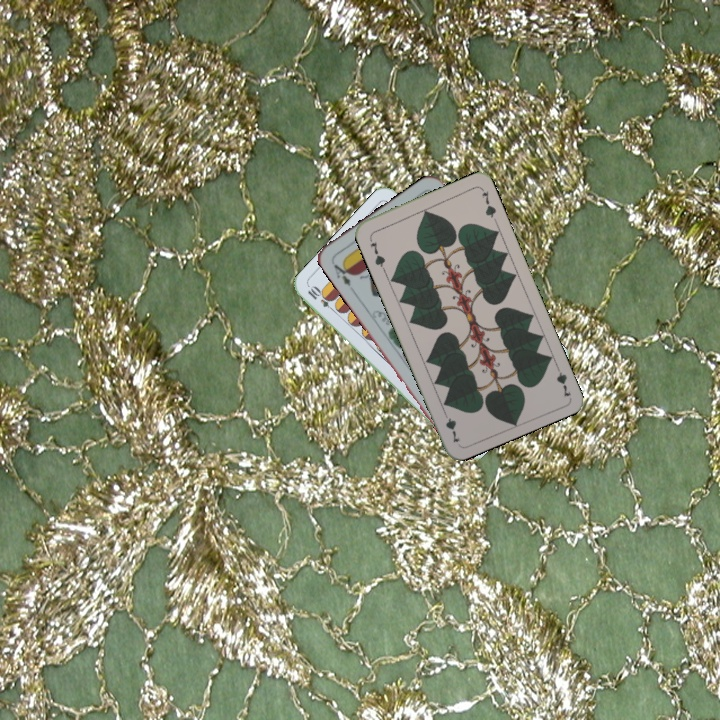E10: (303, 283, 339, 315)
EA: (328, 258, 354, 289)
G7: (551, 359, 573, 400), (365, 233, 388, 272)
